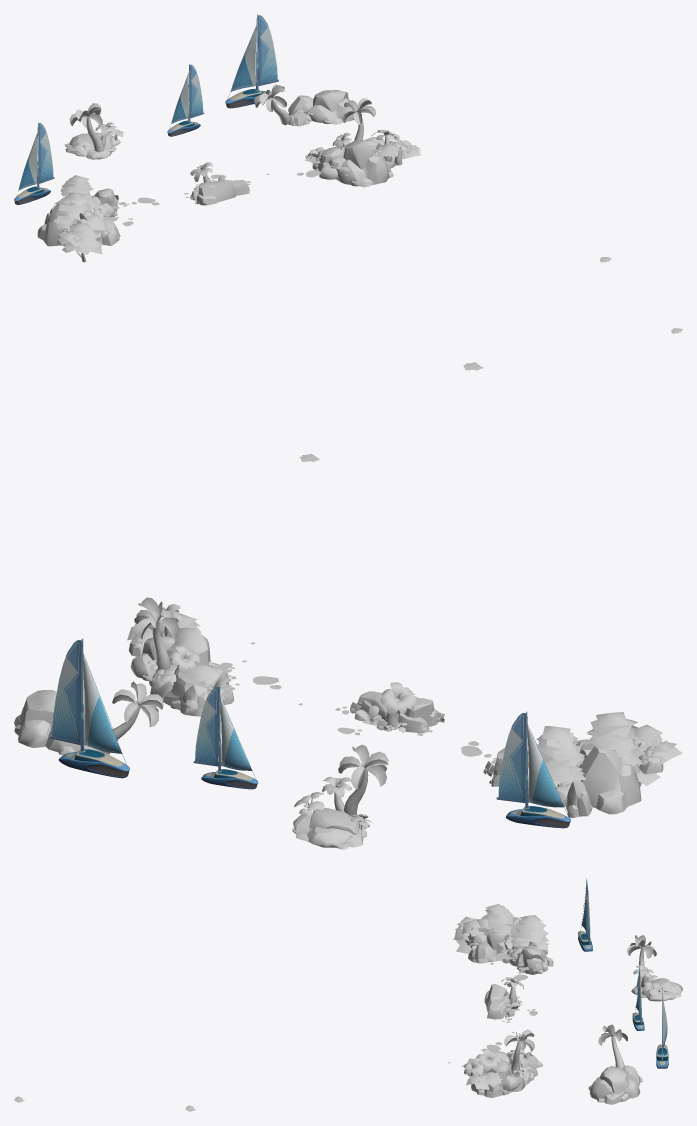
The model's file is pref_Area02_Bottom_Beach_Small_lv3.fbx.
3 renders of one model, top to bottom at view 1: azimuth 30°, elevation 25°; view 2: azimuth 150°, elevation 25°; view 3: azimuth 270°, elevation 25°, orthographic. The views are drawn at different scales.
Parts seen in each view (by area): view 1: pref_sm_beach_sailboat02_lv3 (×3), pref_sm_beach_techrock01_lv3 (×4), pref_sm_beach_techgtree06a_lv3 (×3), pref_sm_beach_techctree01_lv3 (×3), pref_sm_beach_techblockstone03_lv3, pref_sm_beach_techrock03_lv3; view 2: pref_sm_beach_sailboat02_lv3 (×3), pref_sm_beach_techrock01_lv3 (×5), pref_sm_beach_techctree01_lv3 (×3), pref_sm_beach_techgtree06a_lv3 (×3), pref_sm_beach_techrock03_lv3 (×2), pref_sm_beach_techctree04_a_lv3; view 3: pref_sm_beach_techrock01_lv3 (×6), pref_sm_beach_techgtree06a_lv3 (×3), pref_sm_beach_techctree01_lv3 (×3), pref_sm_beach_sailboat02_lv3 (×3), pref_sm_beach_techrock03_lv3, pref_sm_beach_techblockstone02_lv3, pref_sm_beach_techctree04_a_lv3.
Part boxes in pixels (box(x1,y1,x2,y2)): pref_sm_beach_sailboat02_lv3 (×3): box(14, 14, 278, 204); pref_sm_beach_techrock01_lv3 (×4): box(65, 90, 393, 187); pref_sm_beach_techgtree06a_lv3 (×3): box(54, 175, 103, 262); pref_sm_beach_techctree01_lv3 (×3): box(69, 84, 375, 152); pref_sm_beach_techblockstone03_lv3: box(196, 181, 235, 205); pref_sm_beach_techrock03_lv3: box(37, 200, 63, 246); pref_sm_beach_sailboat02_lv3 (×3): box(50, 638, 570, 828); pref_sm_beach_techrock01_lv3 (×5): box(14, 627, 367, 849); pref_sm_beach_techctree01_lv3 (×3): box(101, 597, 388, 817); pref_sm_beach_techgtree06a_lv3 (×3): box(536, 712, 663, 786); pref_sm_beach_techrock03_lv3 (×2): box(566, 745, 641, 817); pref_sm_beach_techctree04_a_lv3: box(380, 682, 416, 729); pref_sm_beach_techrock01_lv3 (×6): box(465, 918, 682, 1104); pref_sm_beach_techgtree06a_lv3 (×3): box(453, 904, 549, 953); pref_sm_beach_techctree01_lv3 (×3): box(504, 935, 656, 1077); pref_sm_beach_sailboat02_lv3 (×3): box(578, 878, 668, 1068); pref_sm_beach_techrock03_lv3: box(468, 942, 497, 963); pref_sm_beach_techblockstone02_lv3: box(487, 996, 511, 1019); pref_sm_beach_techctree04_a_lv3: box(476, 1048, 501, 1075).
Size of the model in its own units: 46.95 by 11.81 by 71.43.
